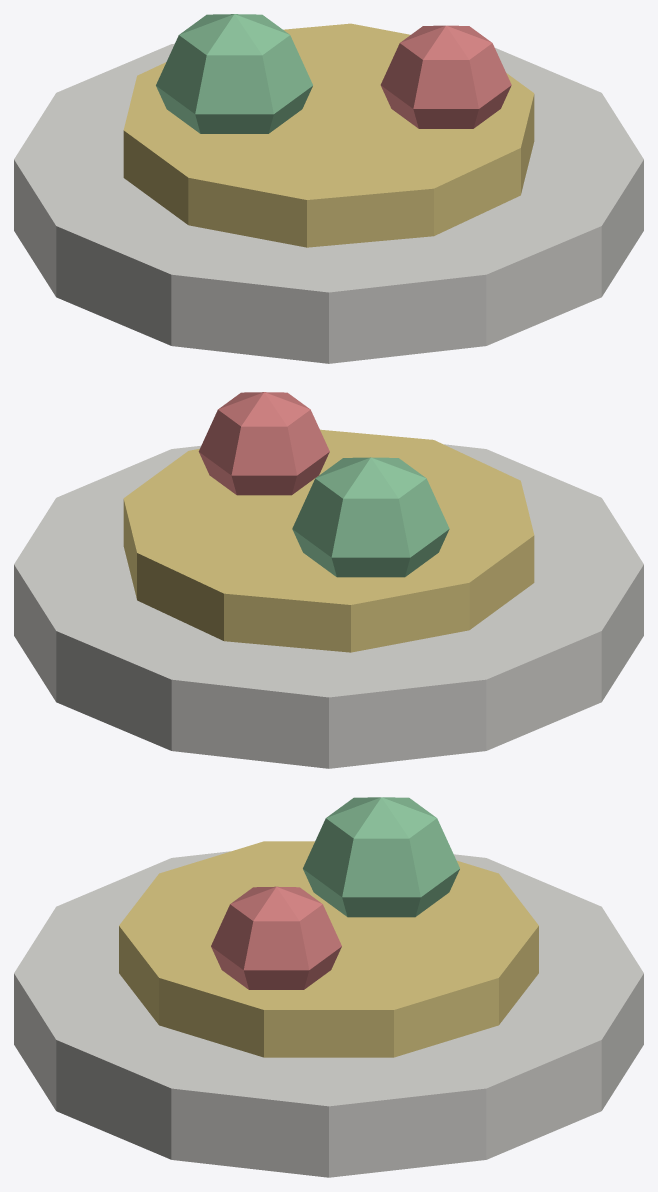
Rendered from kid_prato_inf.glb.
3 renders of one model, top to bottom at view 1: azimuth 30°, elevation 25°; view 2: azimuth 150°, elevation 25°; view 3: azimuth 270°, elevation 25°, orthographic.
Visible parts, largest first — view 1: KID_PRATO_INF_v01; view 2: KID_PRATO_INF_v01; view 3: KID_PRATO_INF_v01.
Part boxes in pixels (x1=…): KID_PRATO_INF_v01: x1=14, y1=14, x2=643, y2=363; KID_PRATO_INF_v01: x1=14, y1=392, x2=643, y2=768; KID_PRATO_INF_v01: x1=14, y1=797, x2=643, y2=1177.
Bounding box in the file's own units: 0.24 × 0.09 × 0.24.
